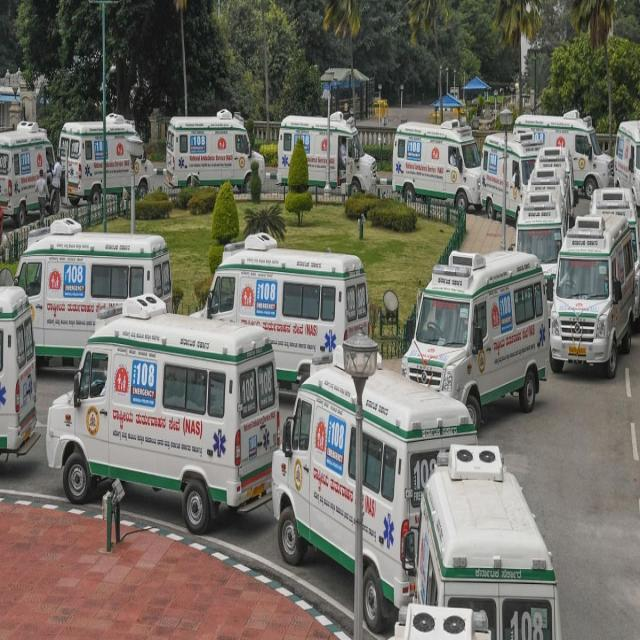ambulance: (42, 317, 269, 522), (271, 378, 410, 603), (419, 444, 558, 640), (401, 259, 548, 396), (206, 249, 372, 337), (552, 227, 638, 369), (23, 231, 168, 315), (59, 112, 158, 197), (388, 119, 479, 202), (277, 114, 377, 189), (170, 112, 264, 189), (516, 113, 612, 184), (1, 284, 38, 459), (0, 127, 58, 221), (533, 148, 567, 260), (483, 130, 529, 211), (617, 120, 640, 202)
